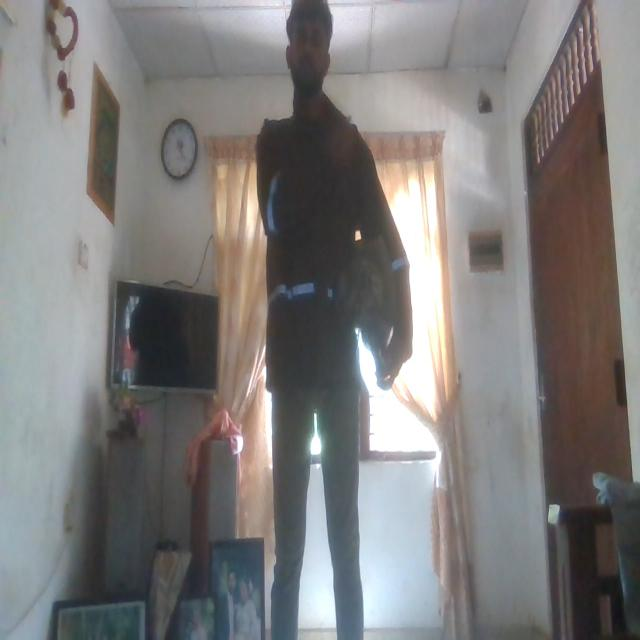Jacket_Wearer: (250, 121, 390, 436)
Person: (249, 9, 385, 635)
